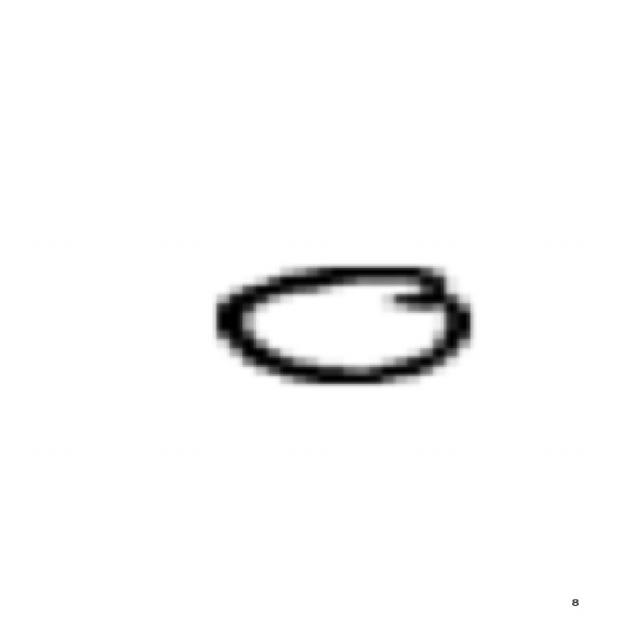5 -five-: (199, 255, 484, 397)
